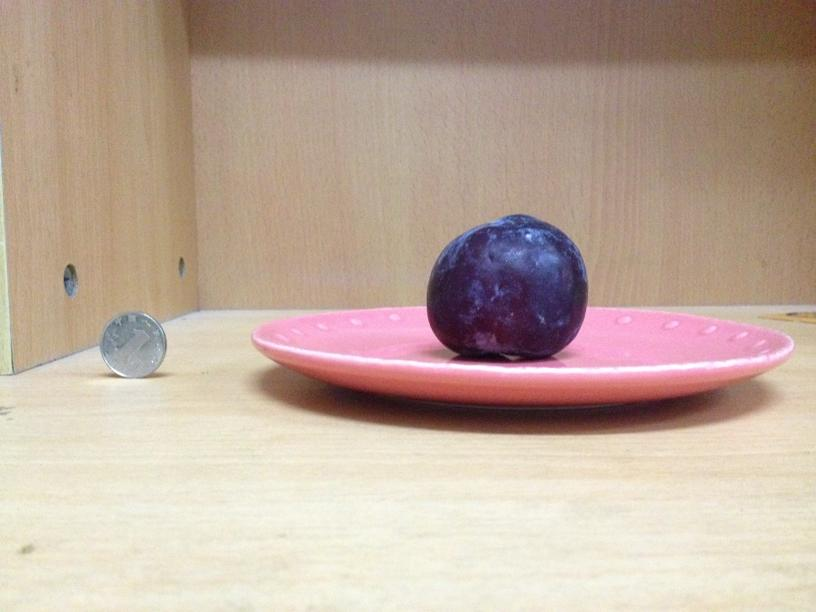coin: (98, 311, 165, 377)
plum: (429, 209, 589, 359)
